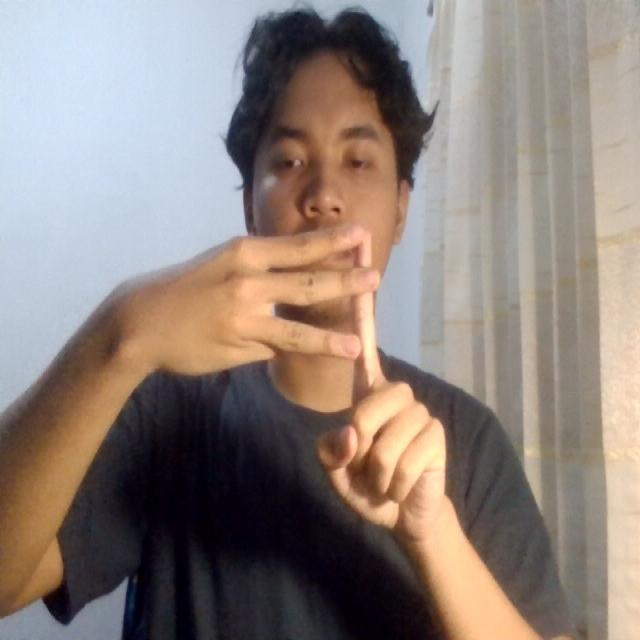B: (136, 207, 460, 565)
